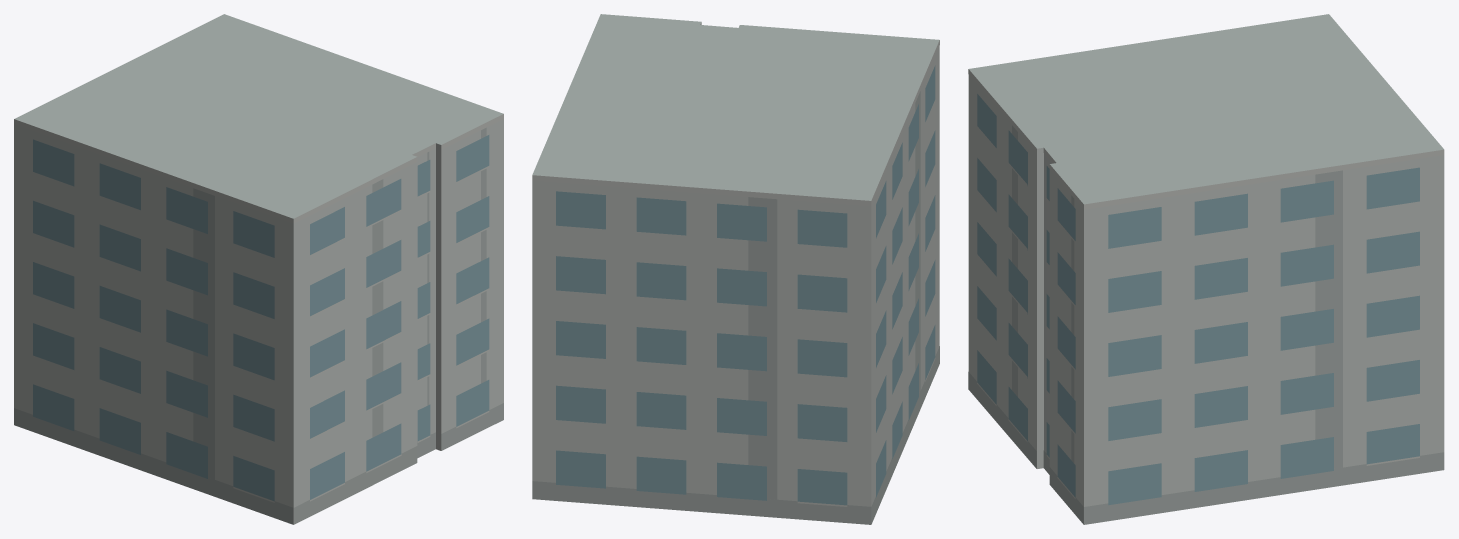
Rendered from survey-upis-32762770.glb.
3 renders of one model, left to right at view 1: azimuth 30°, elevation 25°; view 2: azimuth 150°, elevation 25°; view 3: azimuth 270°, elevation 25°, orthographic. The views are drawn at different scales.
Parts seen in each view (by area): view 1: survey-upis-32762770.tmp; view 2: survey-upis-32762770.tmp; view 3: survey-upis-32762770.tmp.
Part boxes in pixels (box(x1,y1,x2,y2)): survey-upis-32762770.tmp: box(14, 14, 503, 524); survey-upis-32762770.tmp: box(532, 14, 939, 524); survey-upis-32762770.tmp: box(968, 14, 1444, 524).
Bounding box in the file's own units: 18.42 × 14.45 × 19.46.
